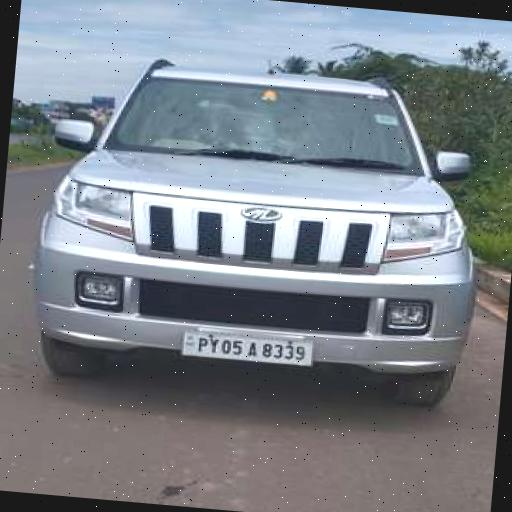license_plate`: (179, 330, 311, 364)
